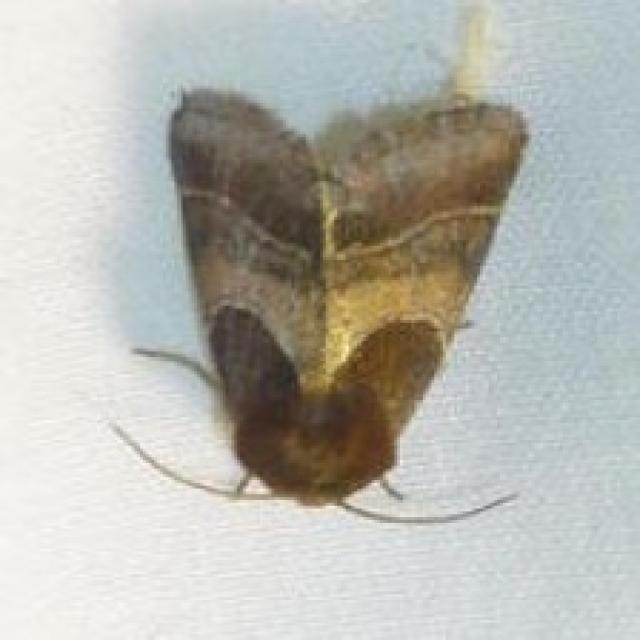butterfly: (106, 0, 531, 526)
